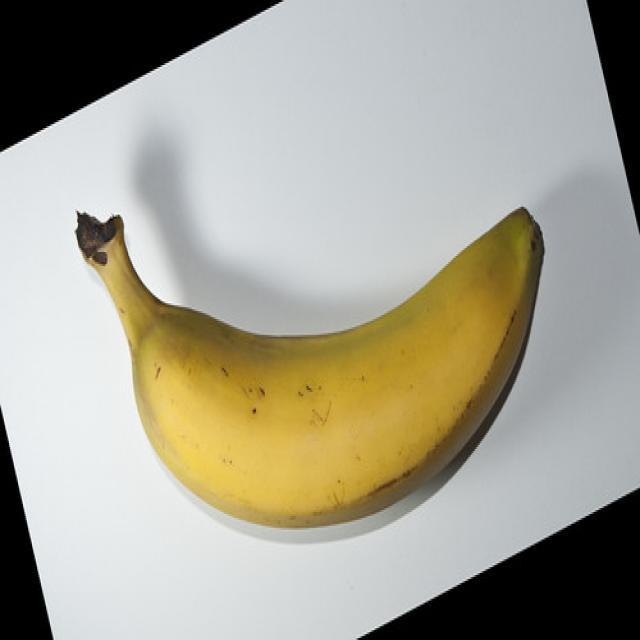Banana: (67, 198, 554, 530)
